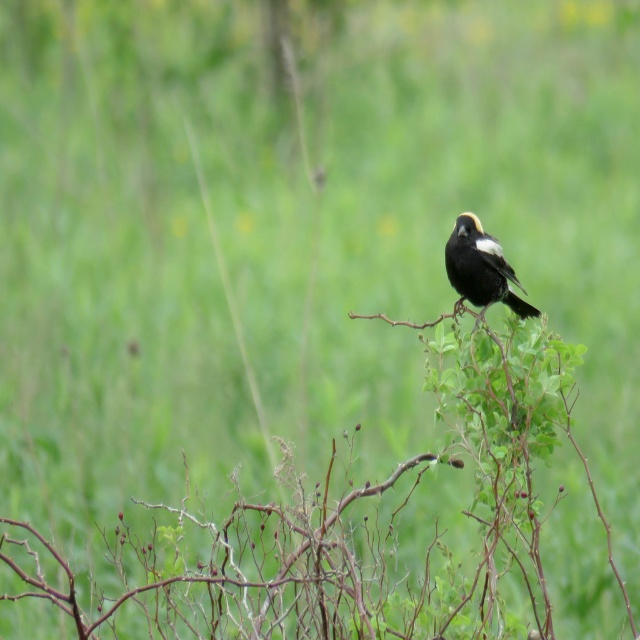Magpie: (445, 212, 542, 341)
